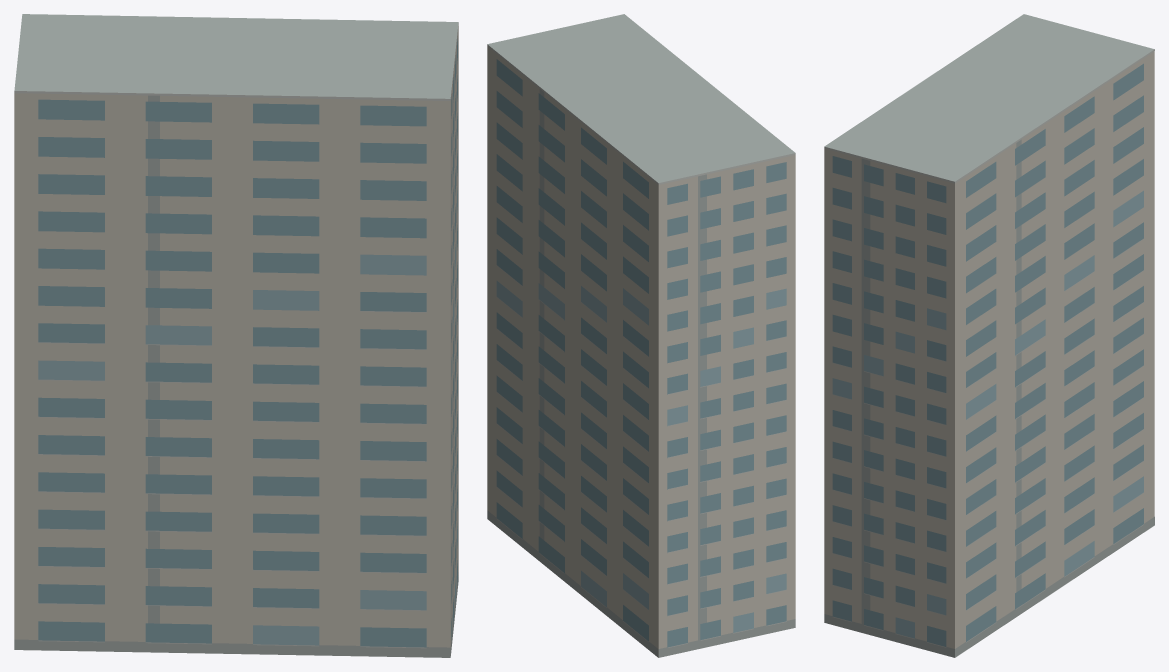
Rendered from residential-8f7e5fa7-f520-4dd9-9f96-323fa5bdedfe.glb.
3 renders of one model, left to right at view 1: azimuth 30°, elevation 25°; view 2: azimuth 150°, elevation 25°; view 3: azimuth 270°, elevation 25°, orthographic. The views are drawn at different scales.
Parts seen in each view (by area): view 1: residential-8f7e5fa7-f520-4dd9-9f96-323fa5bdedfe.tmp; view 2: residential-8f7e5fa7-f520-4dd9-9f96-323fa5bdedfe.tmp; view 3: residential-8f7e5fa7-f520-4dd9-9f96-323fa5bdedfe.tmp.
Part boxes in pixels (x1=…): residential-8f7e5fa7-f520-4dd9-9f96-323fa5bdedfe.tmp: x1=14, y1=14, x2=458, y2=657; residential-8f7e5fa7-f520-4dd9-9f96-323fa5bdedfe.tmp: x1=487, y1=14, x2=795, y2=657; residential-8f7e5fa7-f520-4dd9-9f96-323fa5bdedfe.tmp: x1=824, y1=14, x2=1154, y2=657.
Size of the model in its own units: 46.11 by 61 by 38.39.
